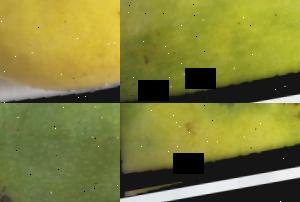PartiallyRipe: (120, 0, 300, 103), (120, 103, 300, 194)
Ripe: (0, 0, 120, 103)
Unripe: (0, 103, 120, 202)
